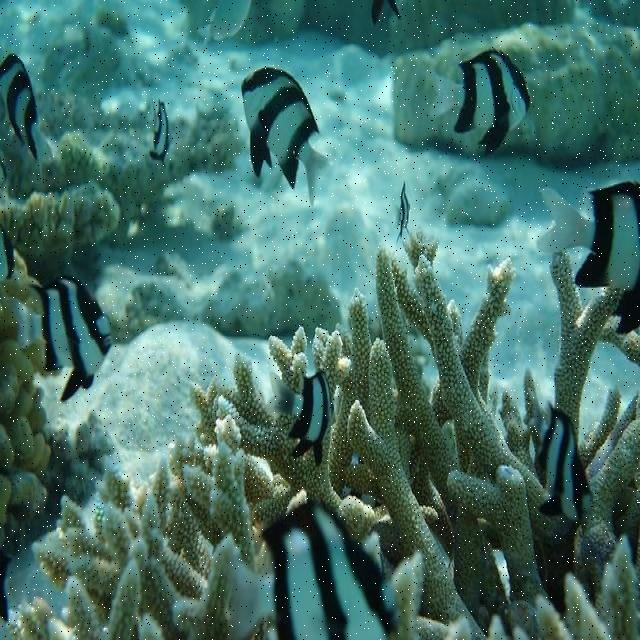fish: (392, 178, 639, 337), (227, 499, 401, 639), (2, 275, 112, 402), (240, 63, 330, 207), (425, 48, 531, 159), (527, 387, 594, 523), (265, 365, 336, 470), (0, 50, 54, 163), (198, 0, 251, 46), (148, 96, 174, 170), (0, 224, 16, 283), (371, 0, 400, 25)
reefs: (6, 224, 639, 639), (0, 95, 247, 262), (0, 246, 120, 558), (392, 20, 638, 169)
